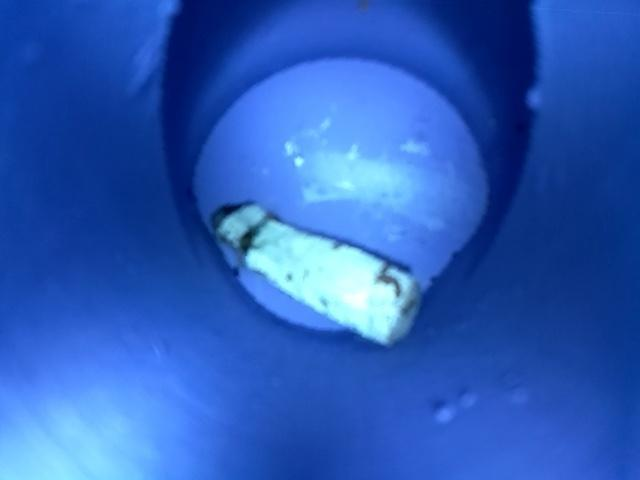megot: (195, 192, 443, 357)
